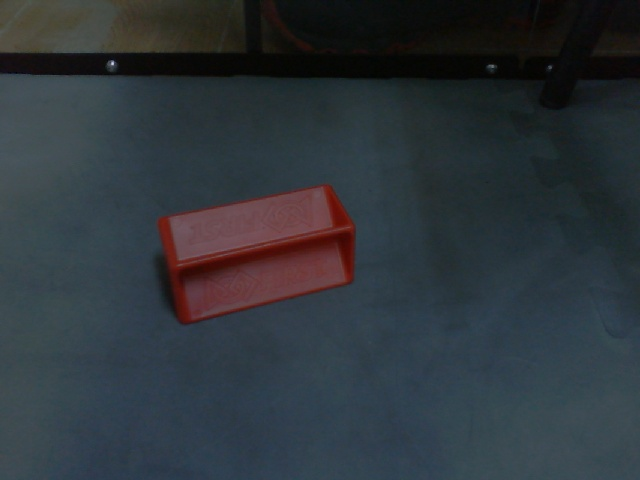RedSample: (155, 181, 359, 327)
